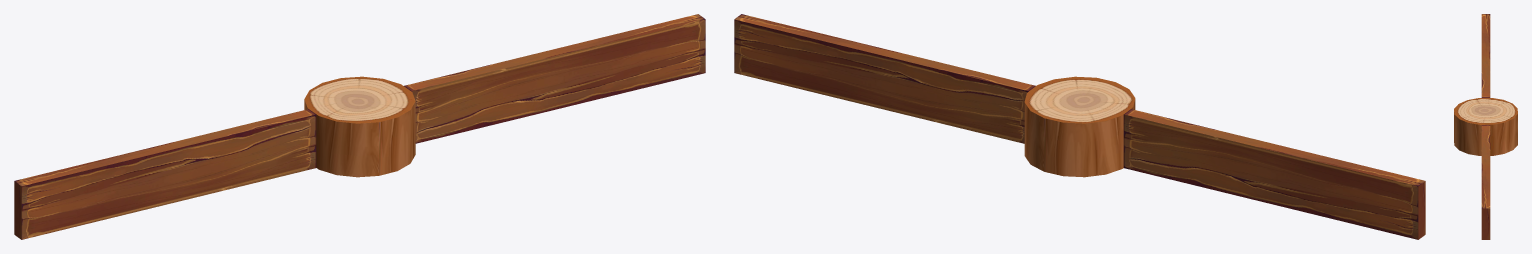
The model's file is two_blade_wood_03.fbx.
3 views of the same model, side by side, from view 1: azimuth 30°, elevation 25°; view 2: azimuth 150°, elevation 25°; view 3: azimuth 270°, elevation 25° (orthographic). The views are drawn at different scales.
Parts seen in each view (by area): view 1: two_blade_wood_03; view 2: two_blade_wood_03; view 3: two_blade_wood_03.
Part boxes in pixels (x1,y1,x2,y2): two_blade_wood_03: (14,14,705,239); two_blade_wood_03: (734,14,1425,239); two_blade_wood_03: (1454,14,1517,239).
Bounding box in the file's own units: 534 × 40 × 74.15.
